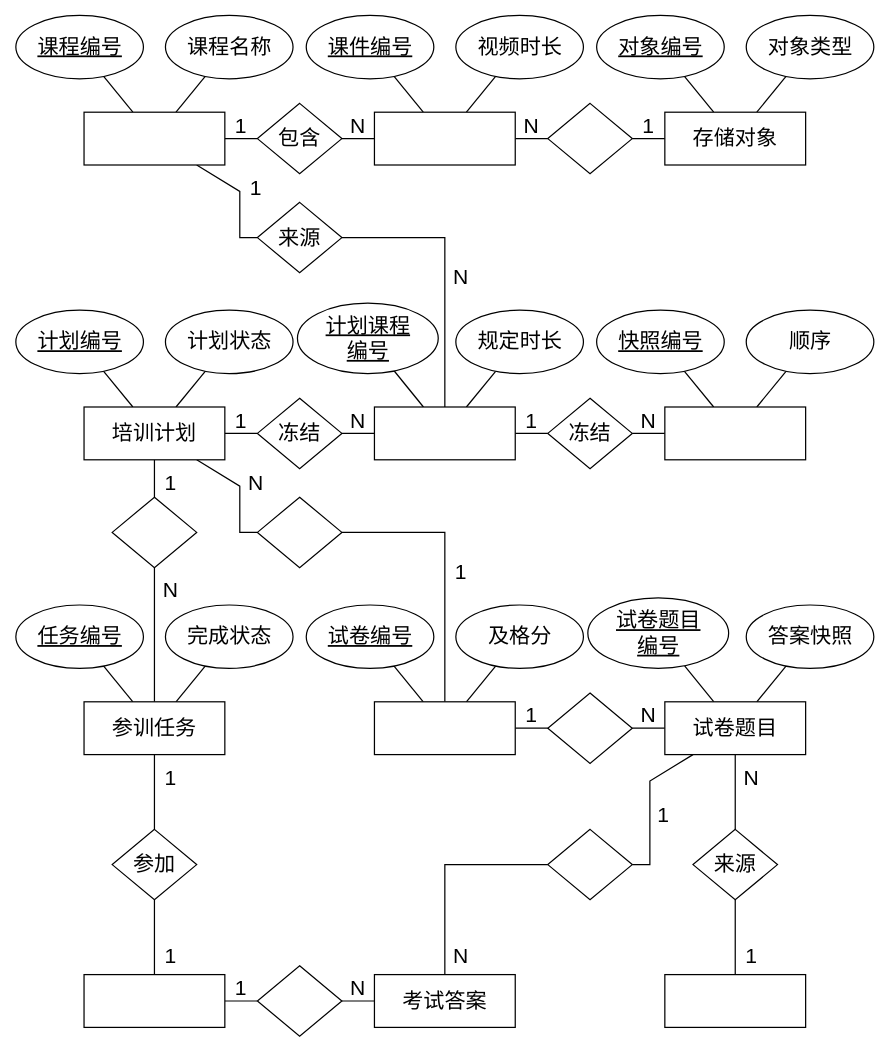
Image size: 890x1052. Some labels were removed from this diagram. Here are the shapes that lost their labels. From the top down, the box of each, then its label:
(83, 111, 225, 165): 课程
(373, 111, 515, 165): 视频课件
(547, 102, 632, 174): 引用
(373, 406, 515, 460): 计划课程
(664, 406, 806, 460): 课件快照
(111, 496, 197, 568): 分配
(256, 496, 342, 568): 使用
(373, 701, 515, 755): 试卷
(547, 692, 632, 764): 固化
(547, 828, 632, 900): 对应
(83, 974, 225, 1028): 考试记录
(256, 965, 342, 1036): 作答
(664, 974, 806, 1028): 题库题目
